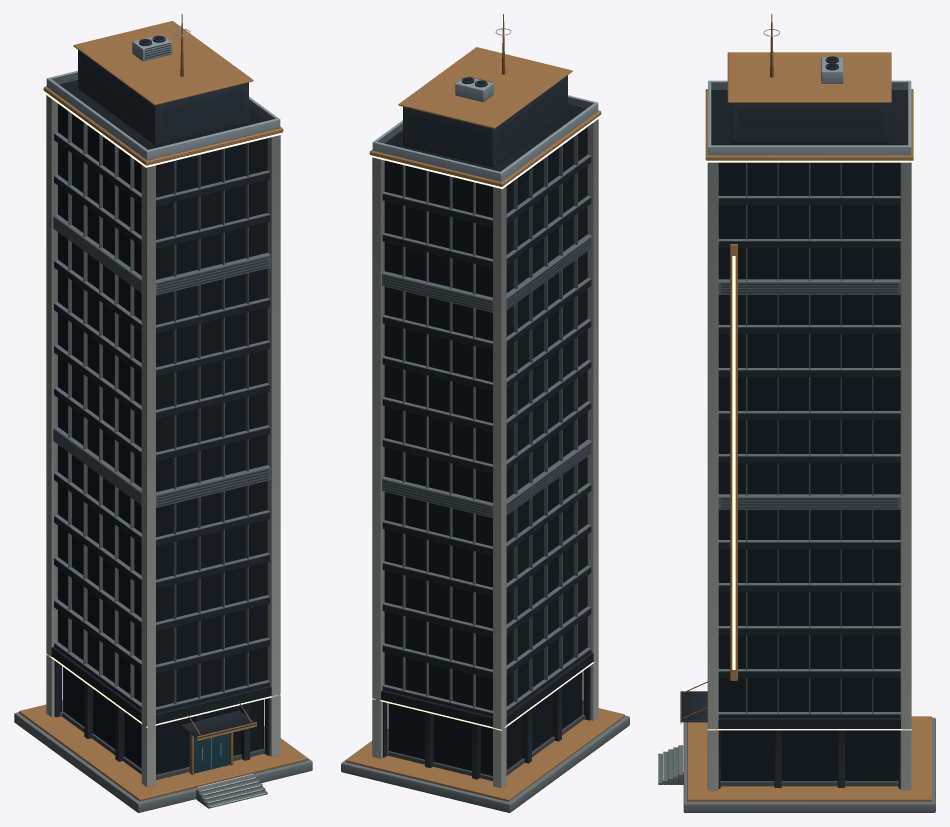
Rendered from data-tower-b.lod0.glb.
3 views of the same model, side by side, from view 1: azimuth 30°, elevation 25°; view 2: azimuth 150°, elevation 25°; view 3: azimuth 270°, elevation 25° (orthographic). The views are drawn at different scales.
Parts seen in each view (by area): view 1: structure; view 2: structure; view 3: structure.
Part boxes in pixels (x1,y1,x2,y2): structure: (14,14,312,812); structure: (341,14,629,812); structure: (658,14,935,812).
Bounding box in the file's own units: 13 × 52.89 × 17.61.
